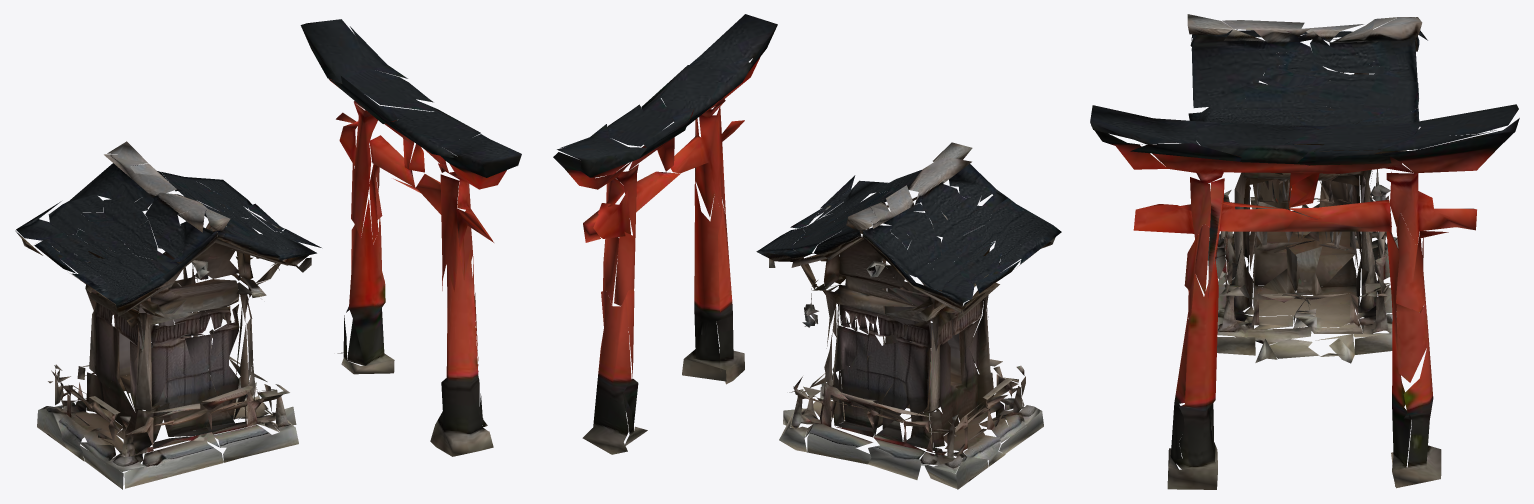
Rendered from torii.glb.
3 renders of one model, left to right at view 1: azimuth 30°, elevation 25°; view 2: azimuth 150°, elevation 25°; view 3: azimuth 270°, elevation 25°, orthographic. The views are drawn at different scales.
Visible parts, largest first — view 1: tripo_node_e8928a7a-bfc6-47cb-907f-c8a3fb6ecd74; view 2: tripo_node_e8928a7a-bfc6-47cb-907f-c8a3fb6ecd74; view 3: tripo_node_e8928a7a-bfc6-47cb-907f-c8a3fb6ecd74.
Boxes of the visible parts, x1,y1,x2,y2 form: tripo_node_e8928a7a-bfc6-47cb-907f-c8a3fb6ecd74: (15,19,521,489); tripo_node_e8928a7a-bfc6-47cb-907f-c8a3fb6ecd74: (553,14,1061,489); tripo_node_e8928a7a-bfc6-47cb-907f-c8a3fb6ecd74: (1090,14,1519,489).
Bounding box in the file's own units: 3.65 × 3 × 3.19.
1 material, 1 textured.
